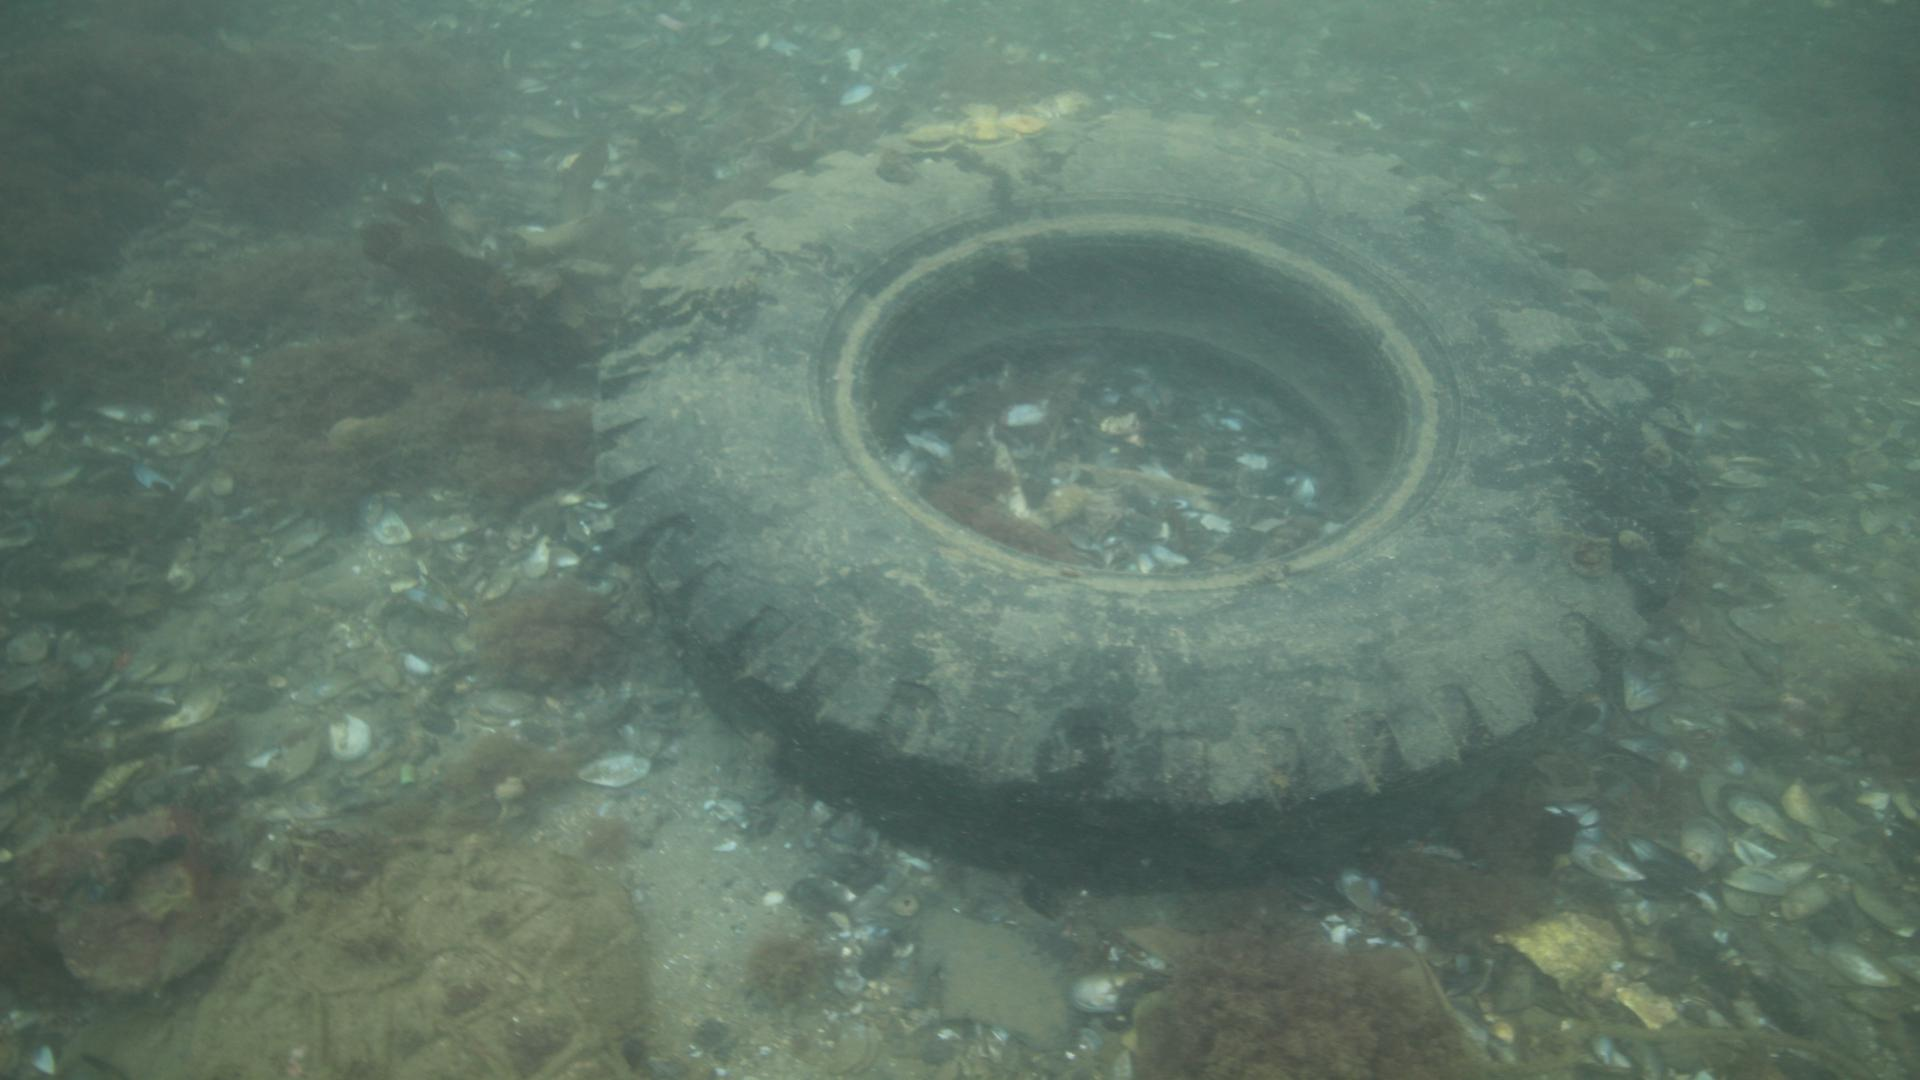tire: (595, 109, 1700, 887)
